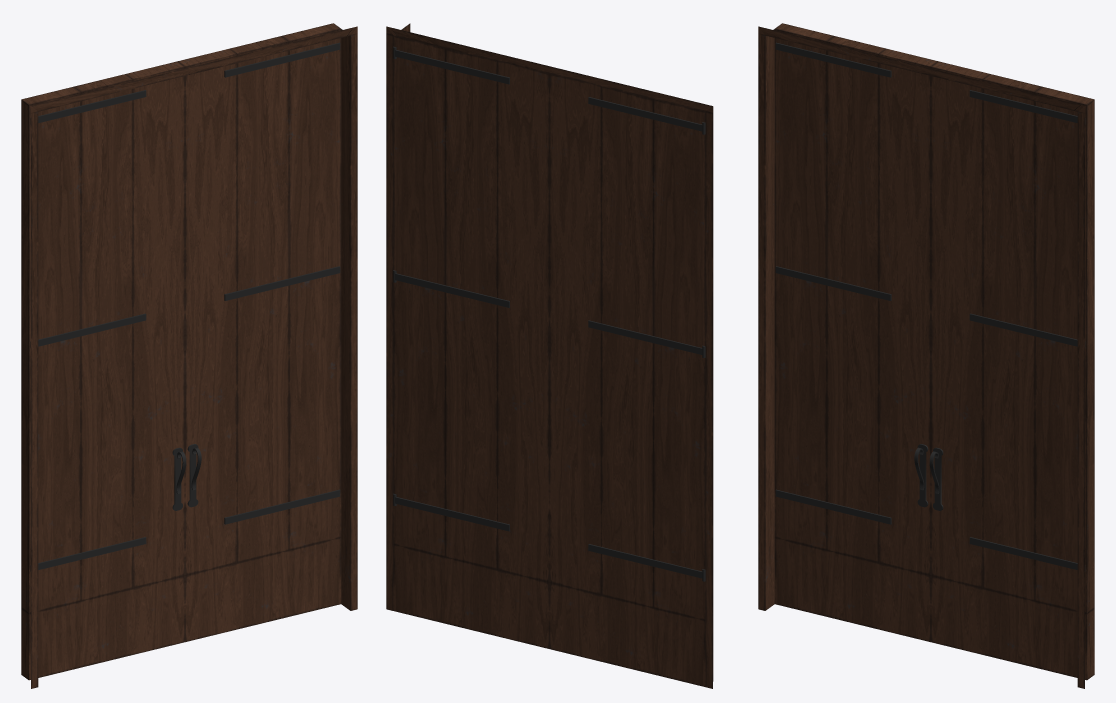
File: Door_C_Frame.fbx
3 views of the same model, side by side, from view 1: azimuth 30°, elevation 25°; view 2: azimuth 150°, elevation 25°; view 3: azimuth 330°, elevation 25° (orthographic).
Visible parts, largest first — view 1: Door_C_B, Door_C_A, Door_C_Frame; view 2: Door_C_B, Door_C_A, Door_C_Frame; view 3: Door_C_A, Door_C_B, Door_C_Frame.
Boxes of the visible parts, bbox=[...] form: Door_C_B: bbox=[21, 61, 186, 680]; Door_C_A: bbox=[178, 23, 341, 642]; Door_C_Frame: bbox=[31, 26, 357, 688]; Door_C_B: bbox=[549, 74, 713, 686]; Door_C_A: bbox=[393, 35, 549, 648]; Door_C_Frame: bbox=[386, 23, 712, 688]; Door_C_A: bbox=[929, 61, 1094, 680]; Door_C_B: bbox=[774, 23, 937, 642]; Door_C_Frame: bbox=[758, 26, 1084, 688].
Bounding box in the file's own units: 2.15 × 0.2035 × 3.67.
